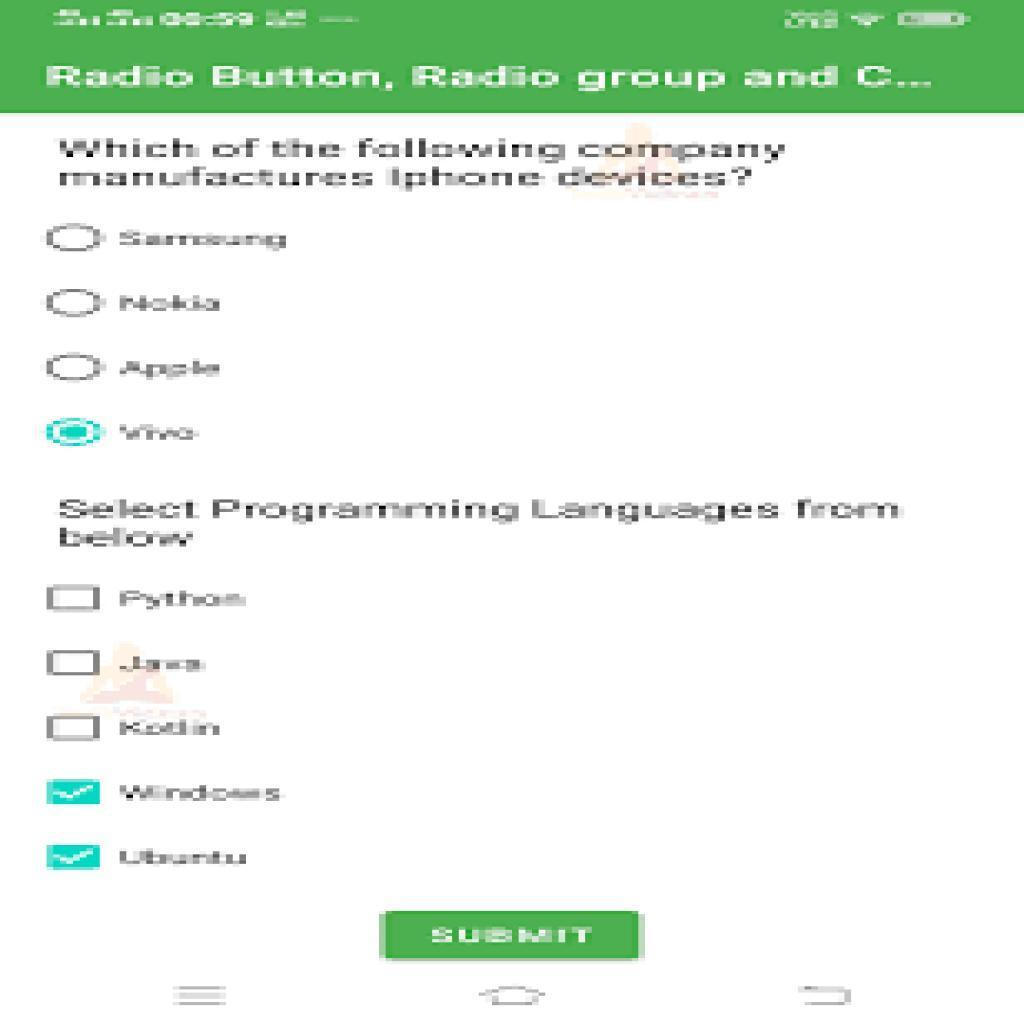button: (385, 913, 638, 959)
checkbox: (47, 842, 102, 871), (48, 780, 102, 807), (49, 718, 102, 744), (50, 586, 102, 611), (48, 651, 100, 675)
radio: (46, 222, 108, 255), (46, 416, 108, 449), (46, 288, 108, 320), (47, 350, 107, 382)
